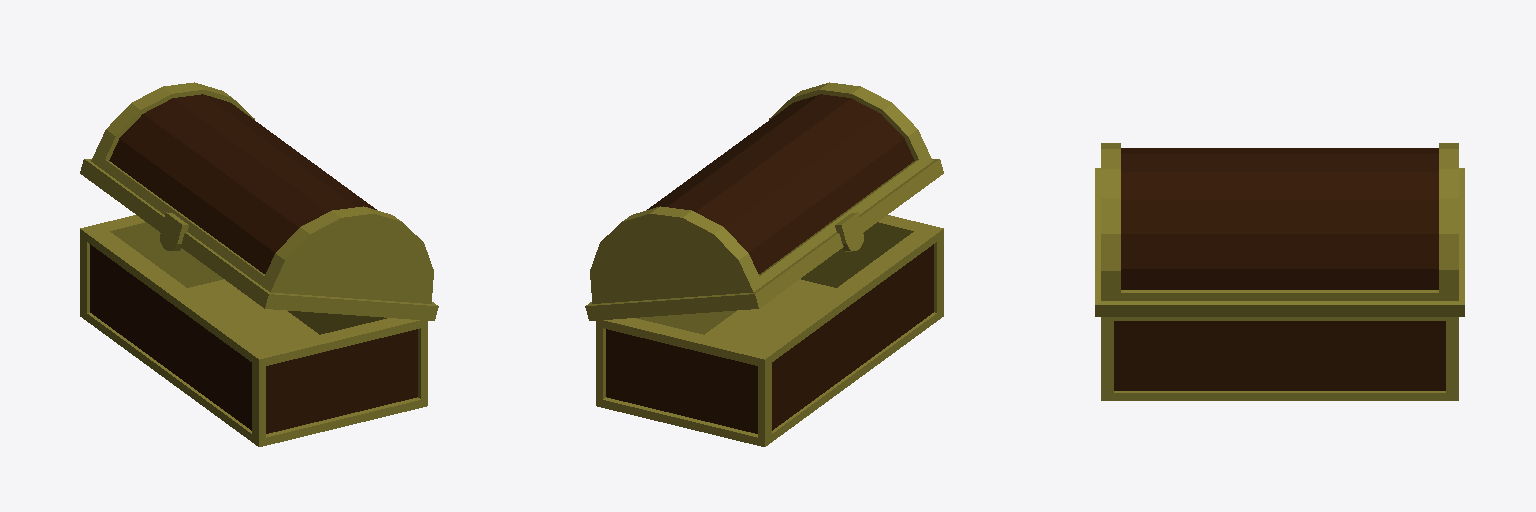
The model's file is chest.obj.
The picture shows the model from 3 angles: view 1: azimuth 30°, elevation 25°; view 2: azimuth 150°, elevation 25°; view 3: azimuth 270°, elevation 25°; orthographic projection.
Visible parts, largest first — view 1: Cube.002; view 2: Cube.002; view 3: Cube.002.
Part boxes in pixels (x1,y1,x2,y2): Cube.002: (80,82,438,446); Cube.002: (585,82,943,446); Cube.002: (1095,143,1464,400).
Size of the model in its own units: 5.96 by 6.61 by 10.57.